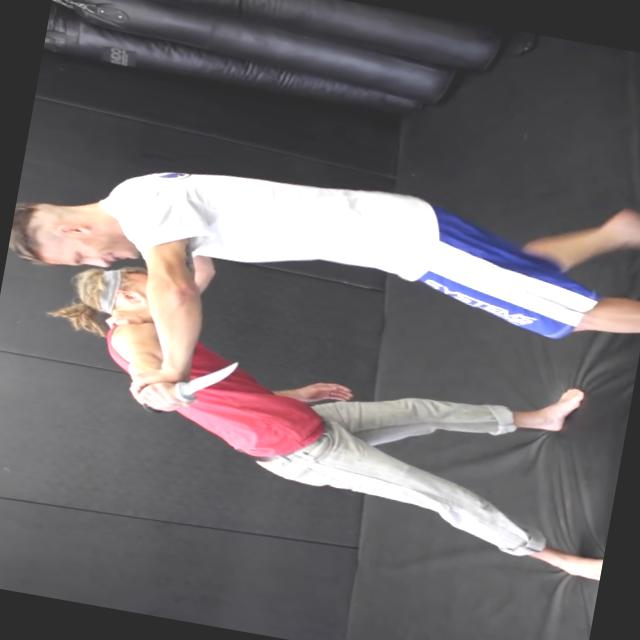knife: (132, 340, 245, 429)
